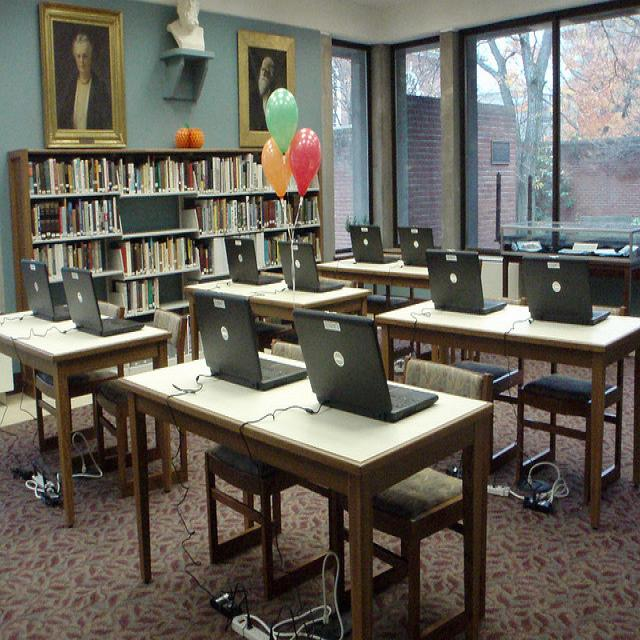chair: (371, 354, 495, 635), (208, 339, 340, 597), (519, 306, 626, 494), (93, 310, 190, 497), (52, 369, 120, 528), (442, 356, 524, 472), (33, 370, 58, 454), (367, 284, 415, 313), (254, 322, 294, 351), (101, 294, 127, 318)
dining table: (118, 295, 494, 640), (185, 274, 372, 361)
